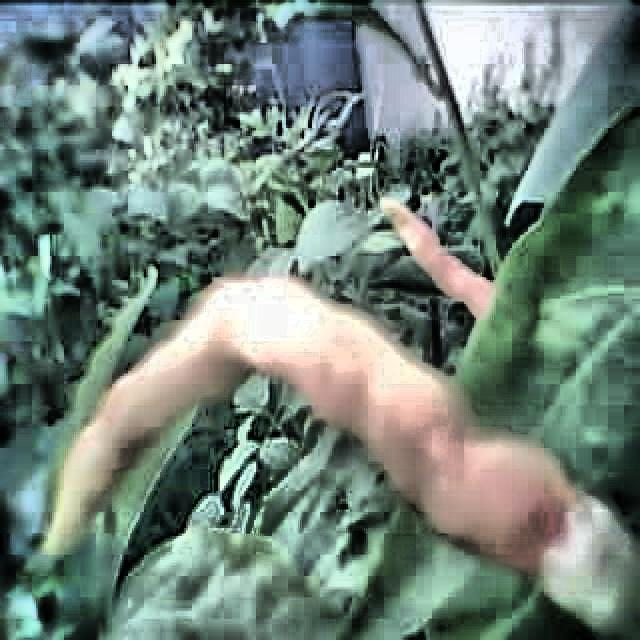Cabai: (226, 267, 596, 550), (373, 207, 507, 294)
